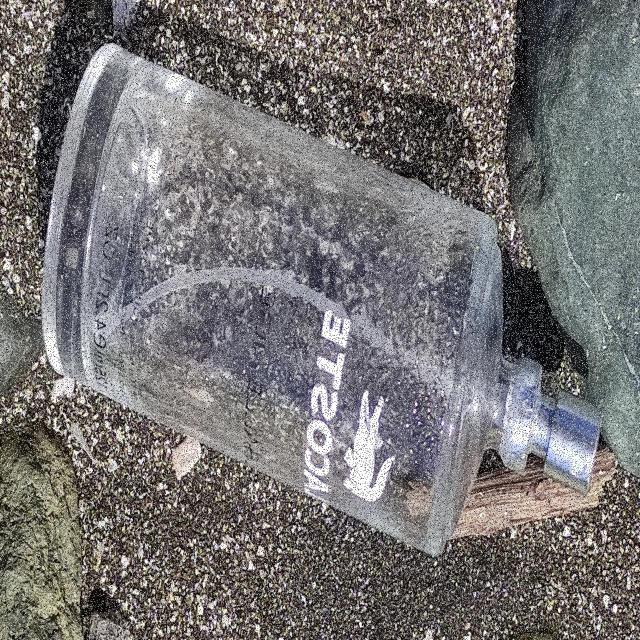plastic_waste: (41, 39, 608, 561)
